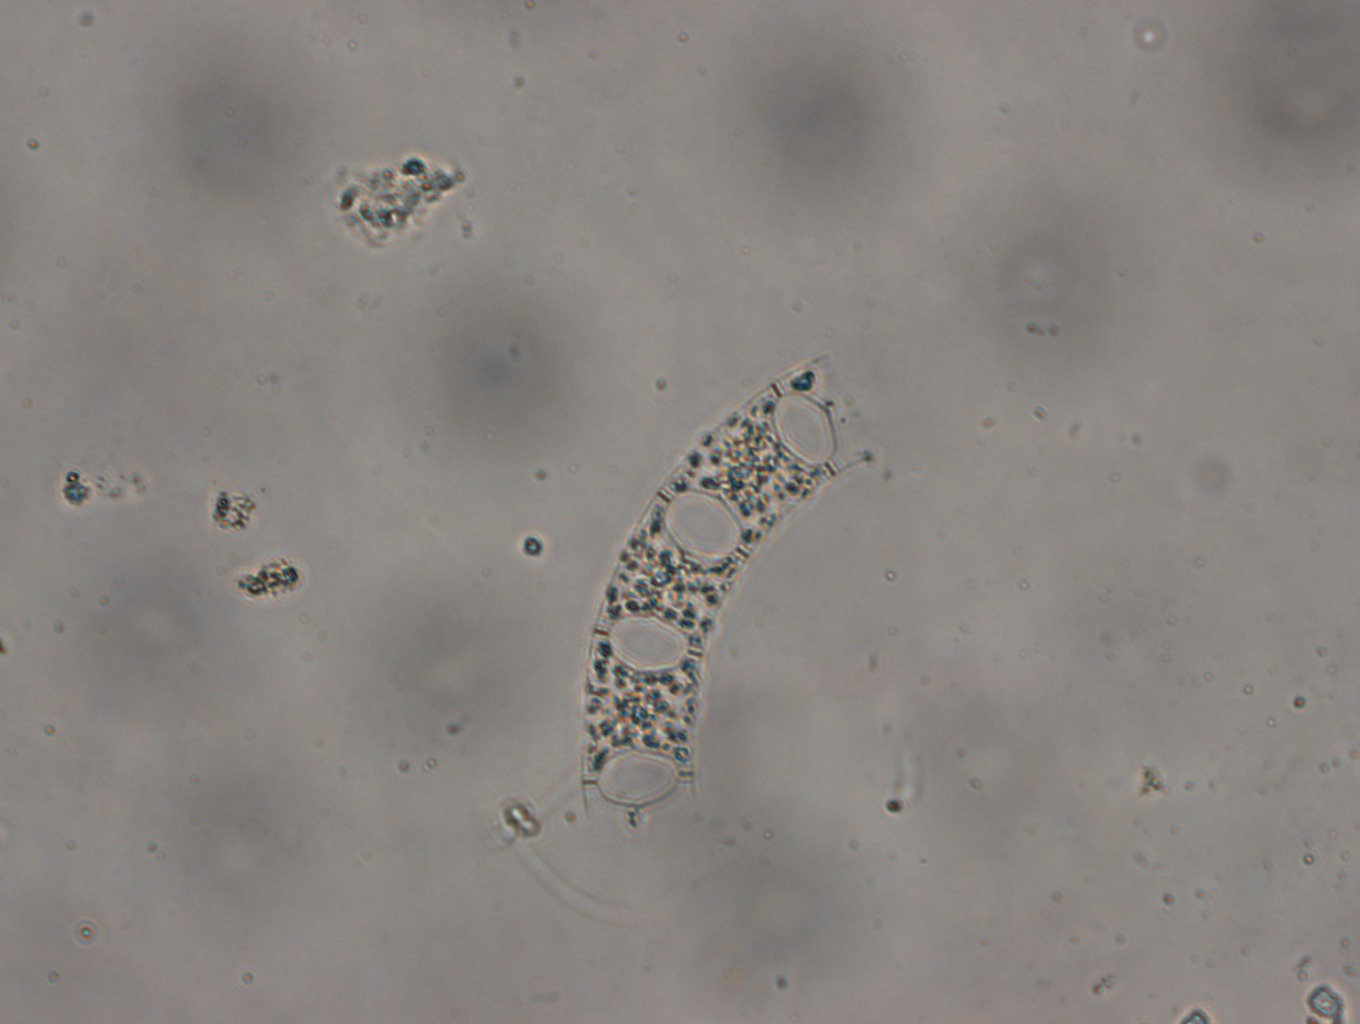eucampia: (579, 357, 873, 829)
